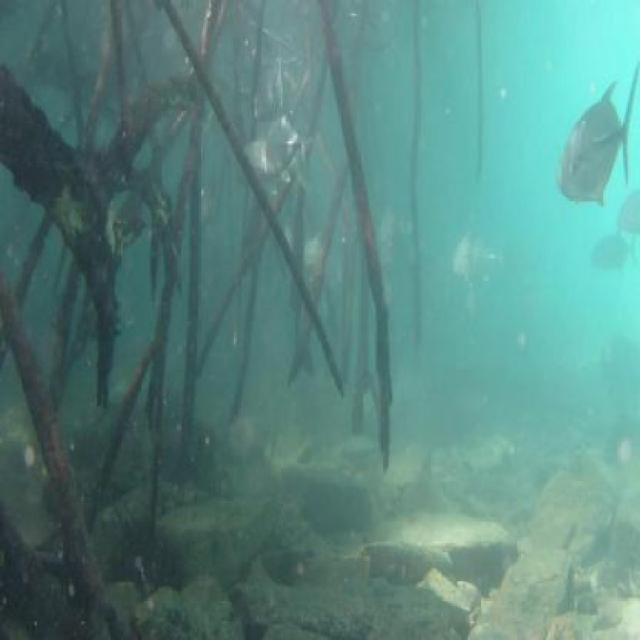Caranx_sexfasciatus_juvenile: (554, 70, 634, 204), (264, 112, 314, 199), (246, 58, 309, 120), (446, 224, 497, 281), (586, 230, 637, 284), (239, 134, 278, 197), (607, 174, 640, 234), (295, 224, 328, 279)
